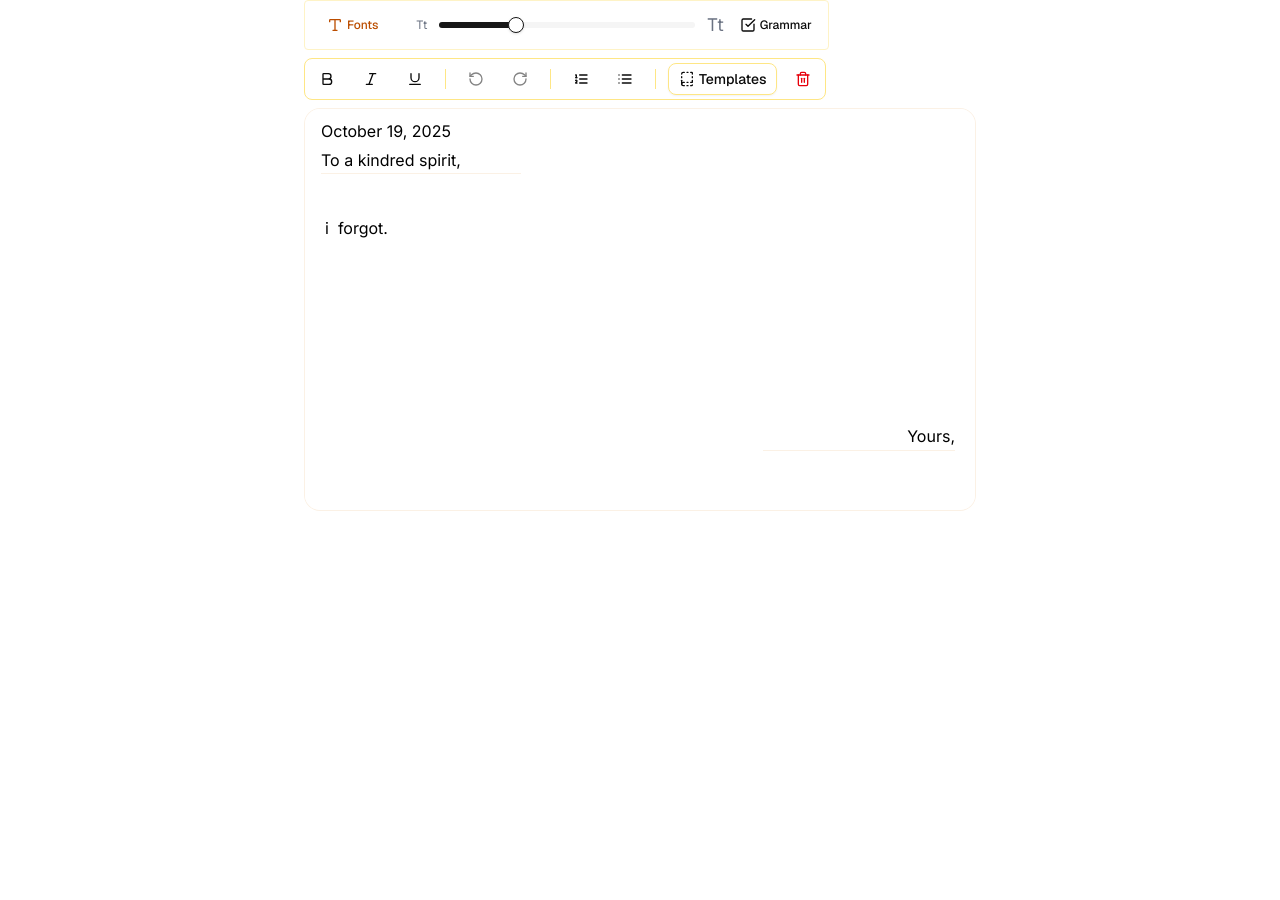
Test: MainContent (integration) › Grammar: API failure → falls back to basic checks; Apply All Fixes updates text and closes dialog
Clear the text box labelled "i forgot." at (356, 228), box left=325, top=218, right=388, bottom=238
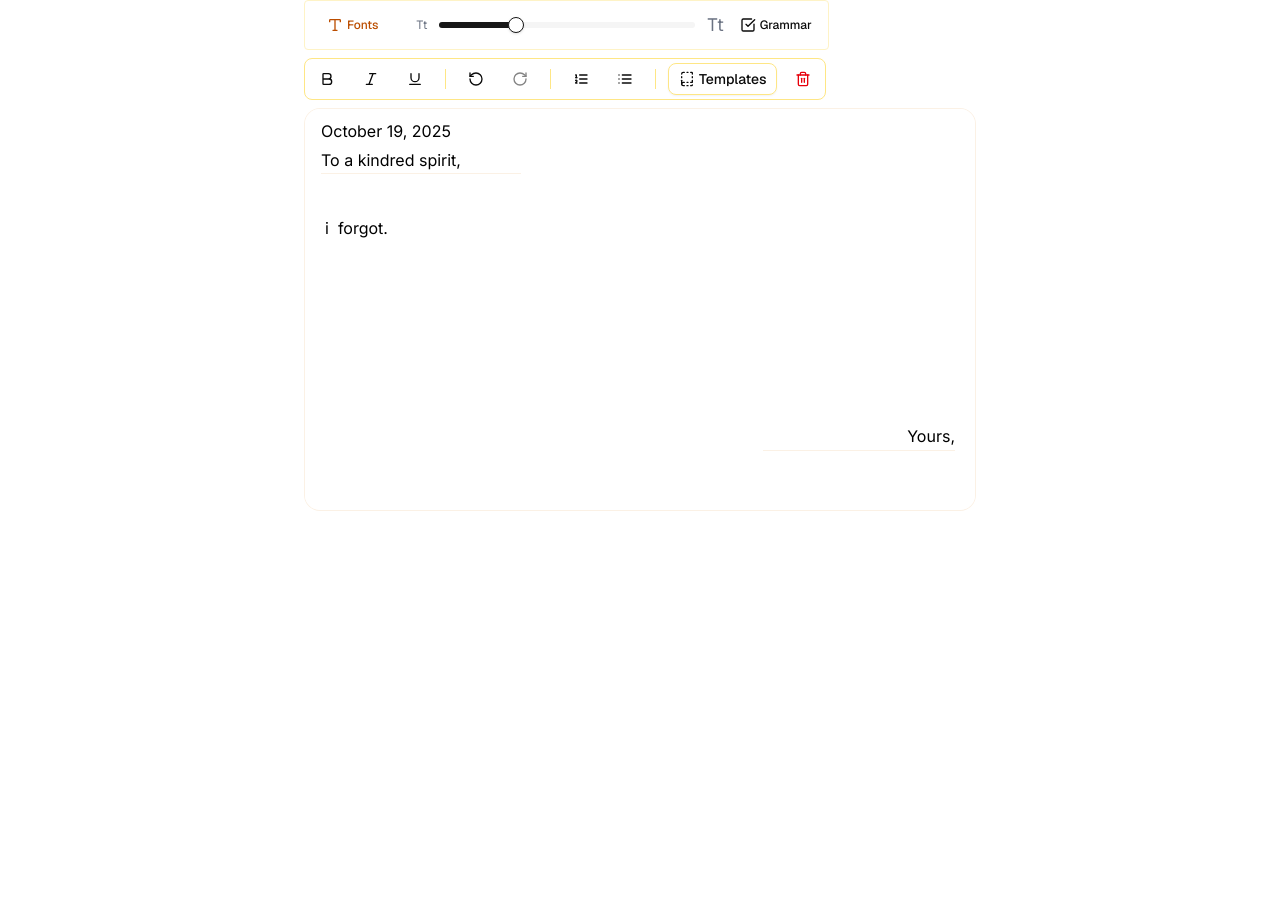
Click the button with aria-label "check-grammar" at (776, 25), box left=736, top=9, right=816, bottom=41
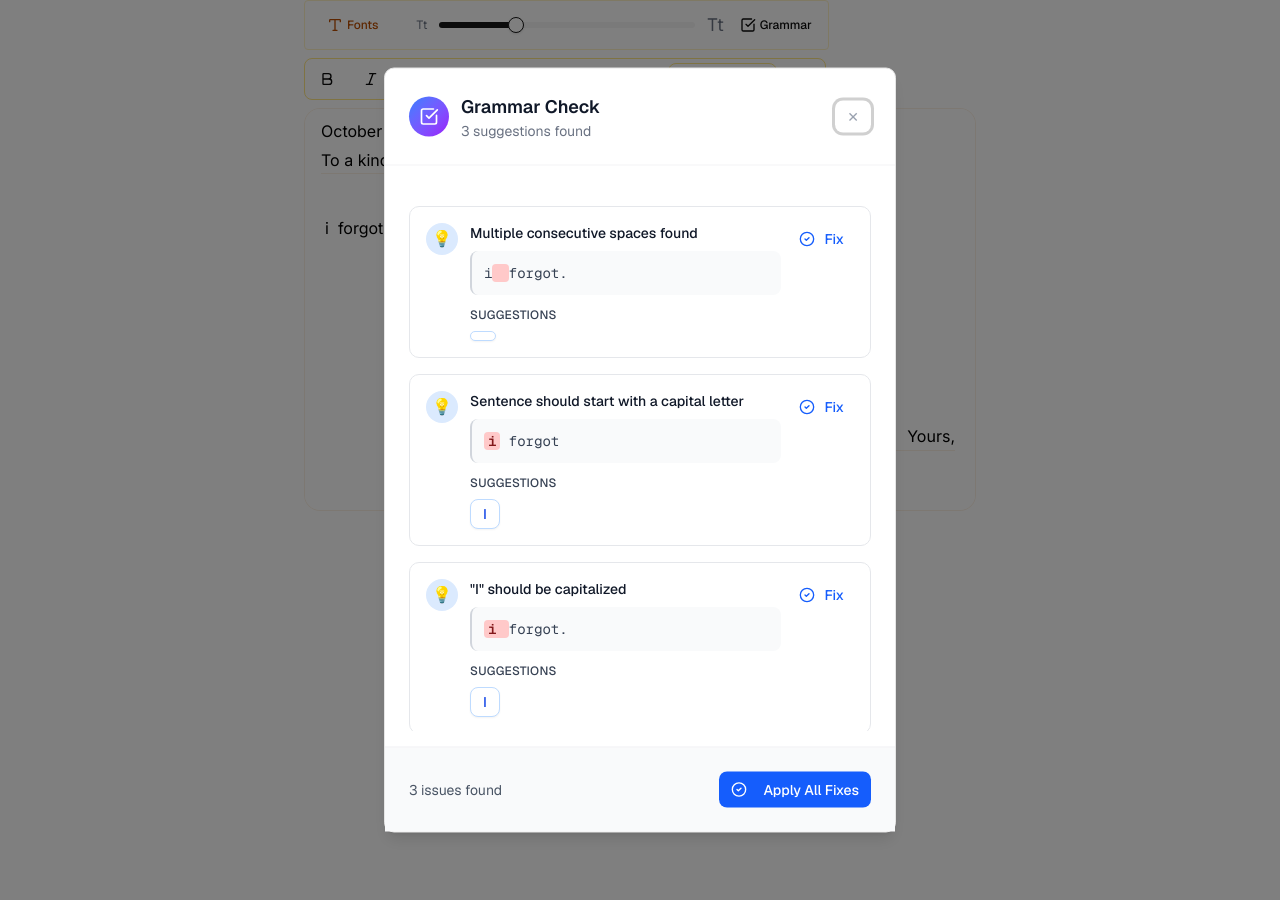
Result: the heading "Grammar Check" is shown at left=461, top=92, right=600, bottom=120
Click the button "Apply All Fixes" at (795, 790), box left=720, top=772, right=871, bottom=808
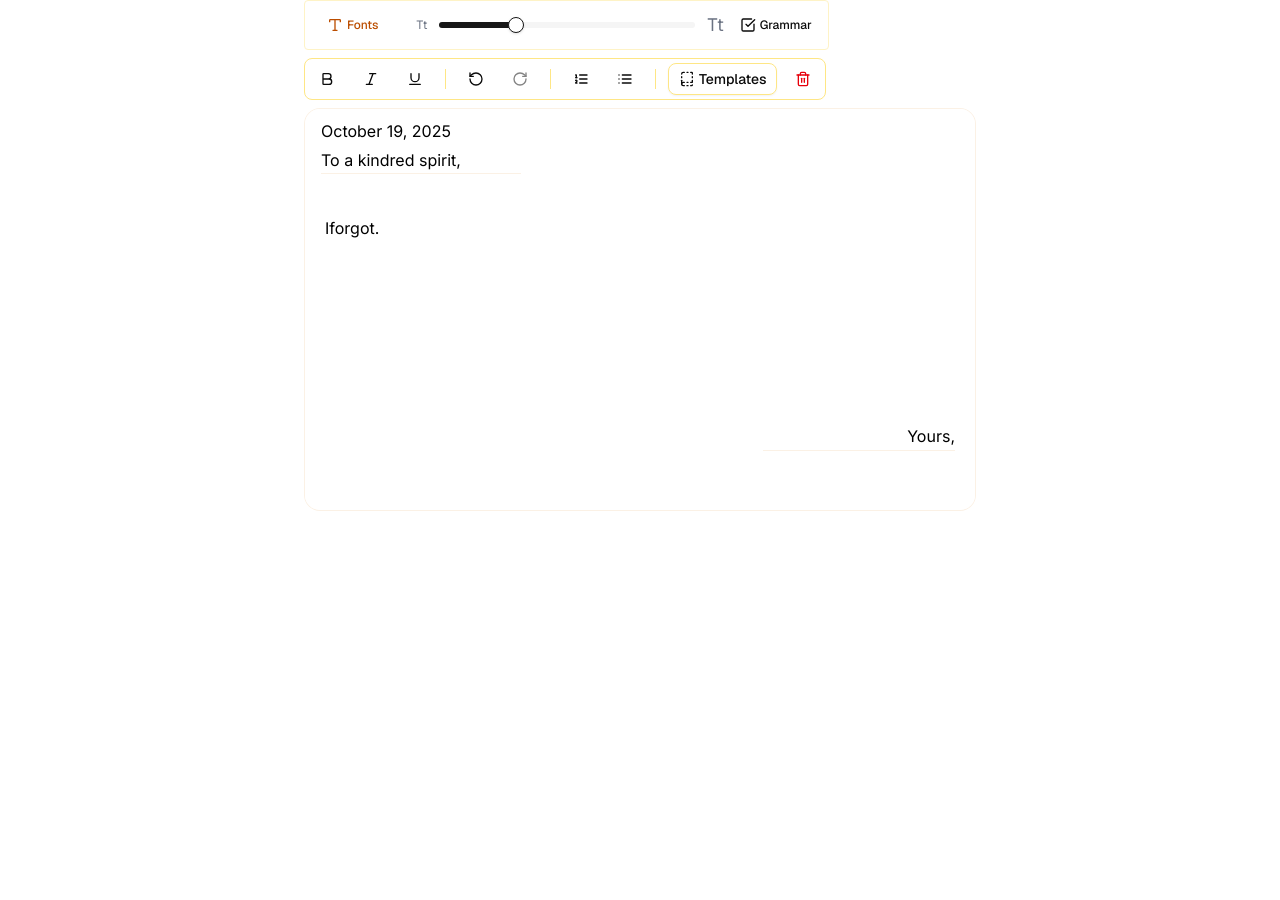
Result: the dialog is gone
